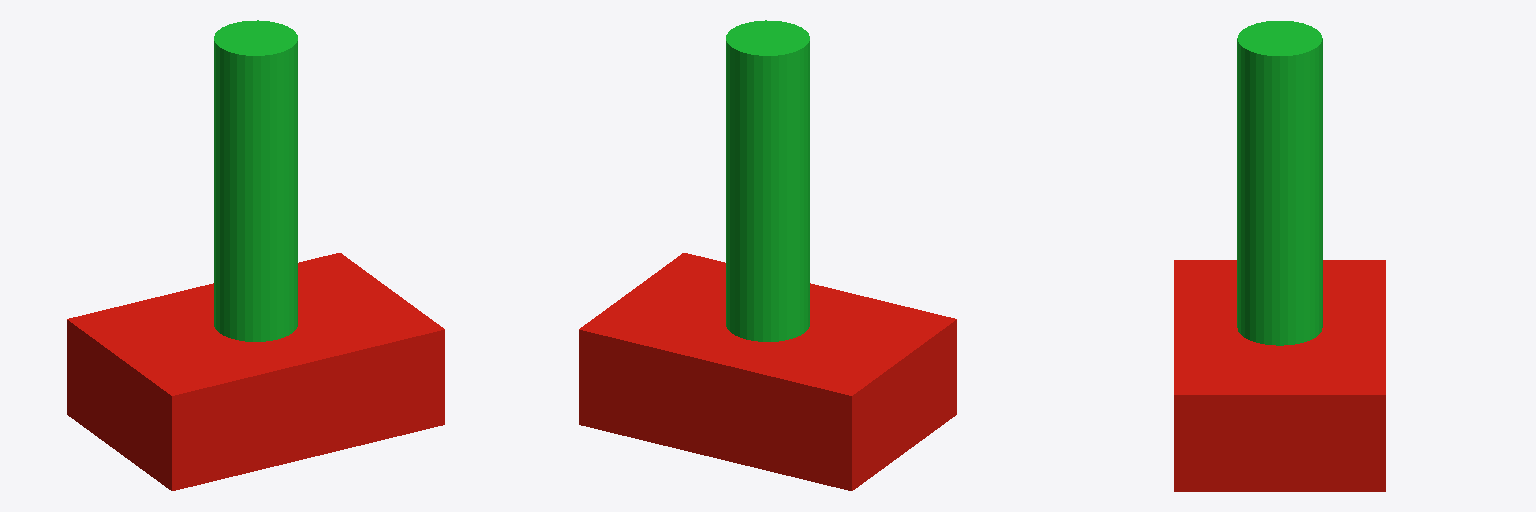
robot.urdf — topic_fixture_robot:
<?xml version="1.0"?>
<robot name="topic_fixture_robot">
  <link name="base">
    <visual><origin xyz="0 0 0.1"/><geometry><box size="0.6 0.4 0.2"/></geometry><material><color rgba="0.9 0.15 0.1 1"/></material></visual>
  </link>
  <link name="arm">
    <visual><origin xyz="0 0 0.3"/><geometry><cylinder radius="0.08" length="0.6"/></geometry><material><color rgba="0.15 0.8 0.25 1"/></material></visual>
  </link>
  <joint name="shoulder" type="revolute"><parent link="base"/><child link="arm"/><origin xyz="0 0 0.2"/><axis xyz="0 1 0"/><limit lower="-1.5" upper="1.5" effort="1" velocity="1"/></joint>
</robot>

--- What the picture shows (computed from the rendered views, not written in the file) ---
3 views of the same robot in one strip: view 1: azimuth 30°, elevation 25°; view 2: azimuth 150°, elevation 25°; view 3: azimuth 270°, elevation 25° (orthographic).
Robot: topic_fixture_robot — 2 links, 1 joints (1 revolute); root link base; default pose: every joint at zero.
Links seen in each view (by area): view 1: base, arm; view 2: base, arm; view 3: base, arm.
Boxes of the visible links, x1,y1,x2,y2 form: base: (67,253,444,490); arm: (214,20,297,341); base: (579,253,956,490); arm: (726,20,809,341); base: (1174,260,1385,491); arm: (1237,21,1322,345).
Size in the robot's own frame: 0.6 by 0.4 by 0.8 metres.
Geometry: primitives only (box / cylinder / sphere), no mesh files.
